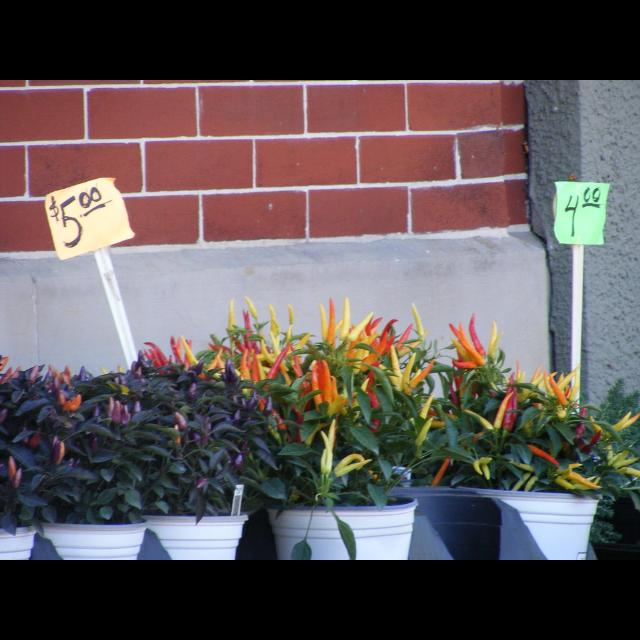Flower: (449, 320, 508, 378)
